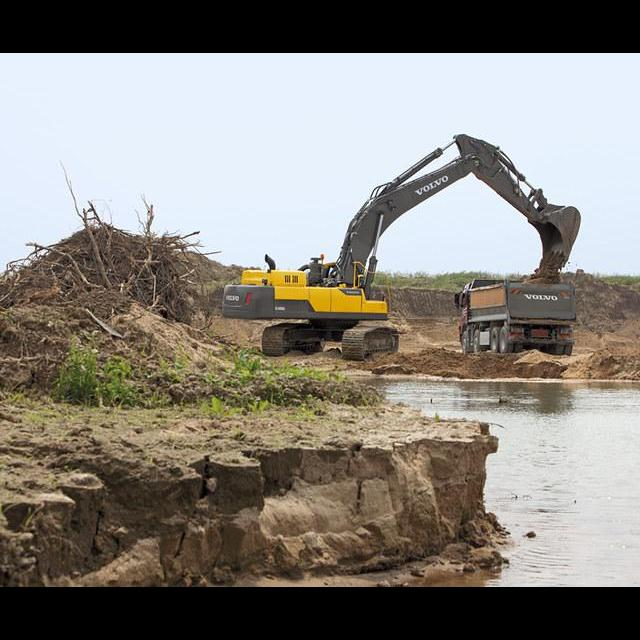Excavator: (224, 131, 583, 360)
dump truck: (453, 278, 579, 356)
